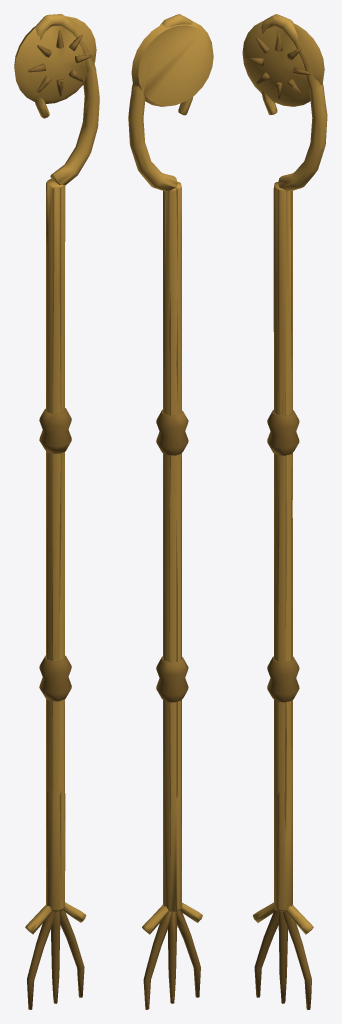
The model's file is ember_toasting_fork_lod1.glb.
3 views of the same model, side by side, from view 1: azimuth 30°, elevation 25°; view 2: azimuth 210°, elevation 25°; view 3: azimuth 330°, elevation 25° (orthographic).
Visible parts, largest first — view 1: ember_toasting_fork.001; view 2: ember_toasting_fork.001; view 3: ember_toasting_fork.001.
Boxes of the visible parts, x1,y1,x2,y2 form: ember_toasting_fork.001: (14, 14, 99, 1009); ember_toasting_fork.001: (128, 14, 213, 1009); ember_toasting_fork.001: (242, 14, 327, 1009).
Bounding box in the file's own units: 5.35 × 60.04 × 1.8.
